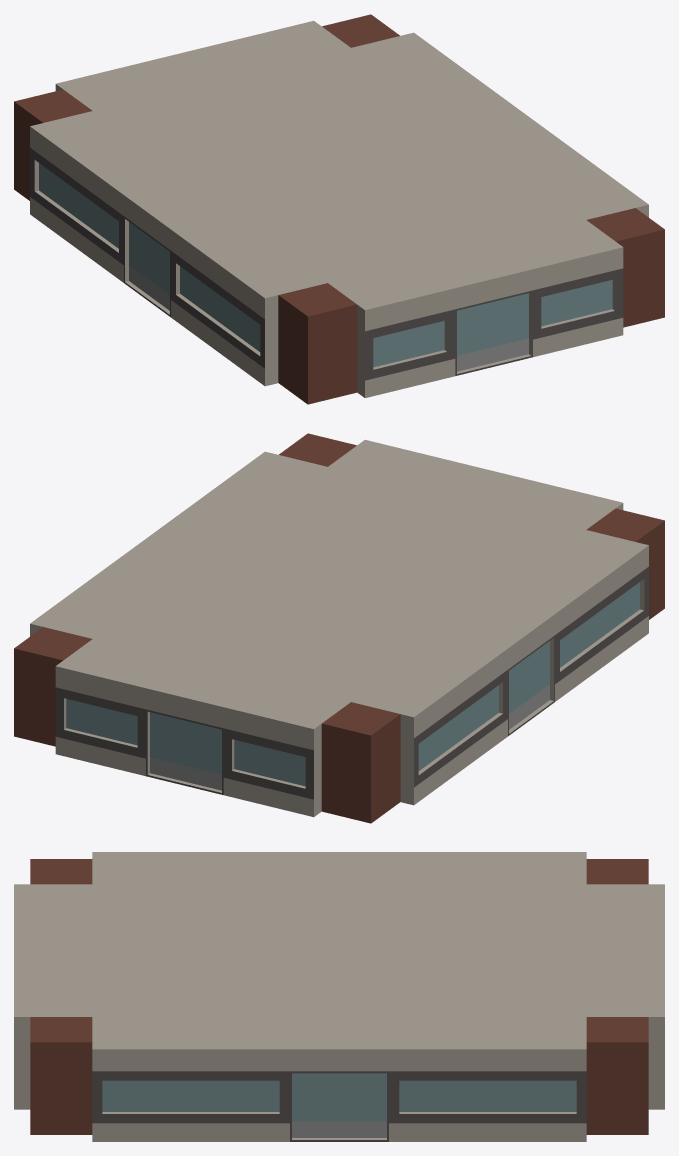
The model's file is SGM_Base.fbx.
3 views of the same model, one above another, from view 1: azimuth 30°, elevation 25°; view 2: azimuth 150°, elevation 25°; view 3: azimuth 270°, elevation 25° (orthographic). The views are drawn at different scales.
Visible parts, largest first — view 1: SGM_Base; view 2: SGM_Base; view 3: SGM_Base.
Boxes of the visible parts, x1,y1,x2,y2 form: SGM_Base: (14,14,664,404); SGM_Base: (14,433,664,823); SGM_Base: (14,852,664,1141).
Bounding box in the file's own units: 2283 × 500 × 3186.
